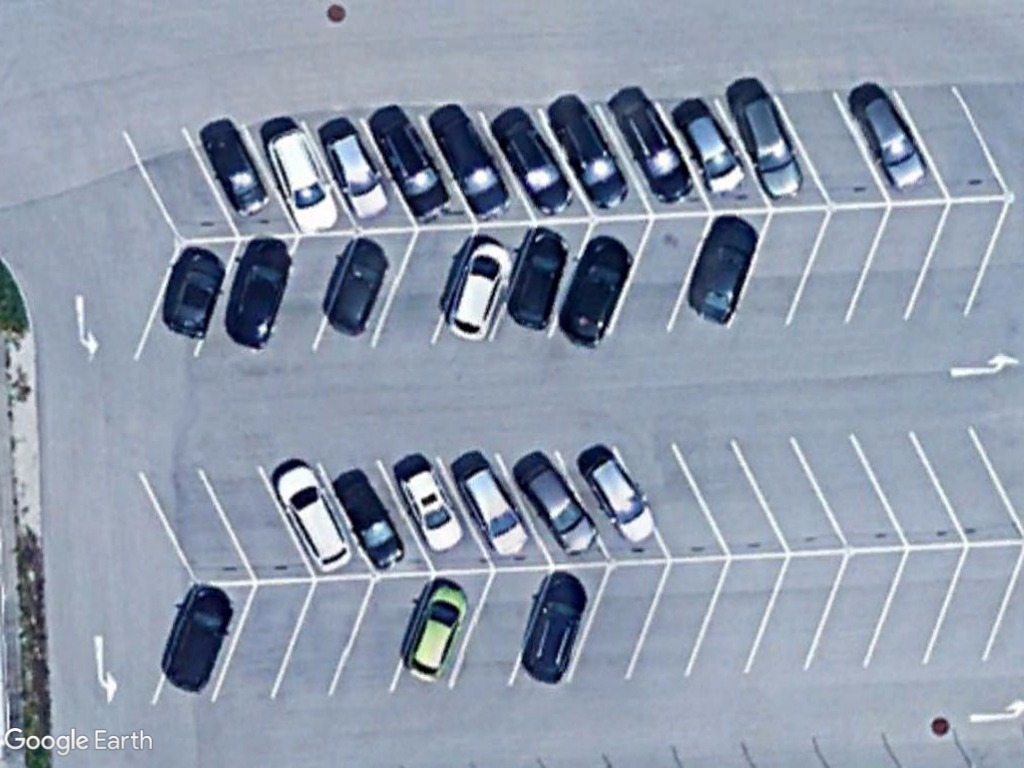car: (270, 460, 355, 575), (615, 91, 698, 206), (555, 235, 638, 348), (549, 101, 634, 211), (432, 105, 514, 218), (729, 87, 809, 202), (848, 83, 930, 195), (261, 124, 342, 236), (160, 580, 238, 695), (519, 568, 595, 685), (399, 573, 476, 687), (683, 214, 758, 328), (374, 114, 452, 223), (517, 458, 601, 559), (495, 110, 574, 214), (223, 237, 293, 351), (454, 458, 531, 561), (583, 452, 661, 551), (199, 124, 276, 220), (445, 237, 515, 340), (504, 226, 573, 330), (324, 236, 392, 337), (321, 127, 391, 220), (395, 462, 464, 555), (336, 476, 404, 570), (679, 106, 746, 201), (165, 245, 228, 340)
